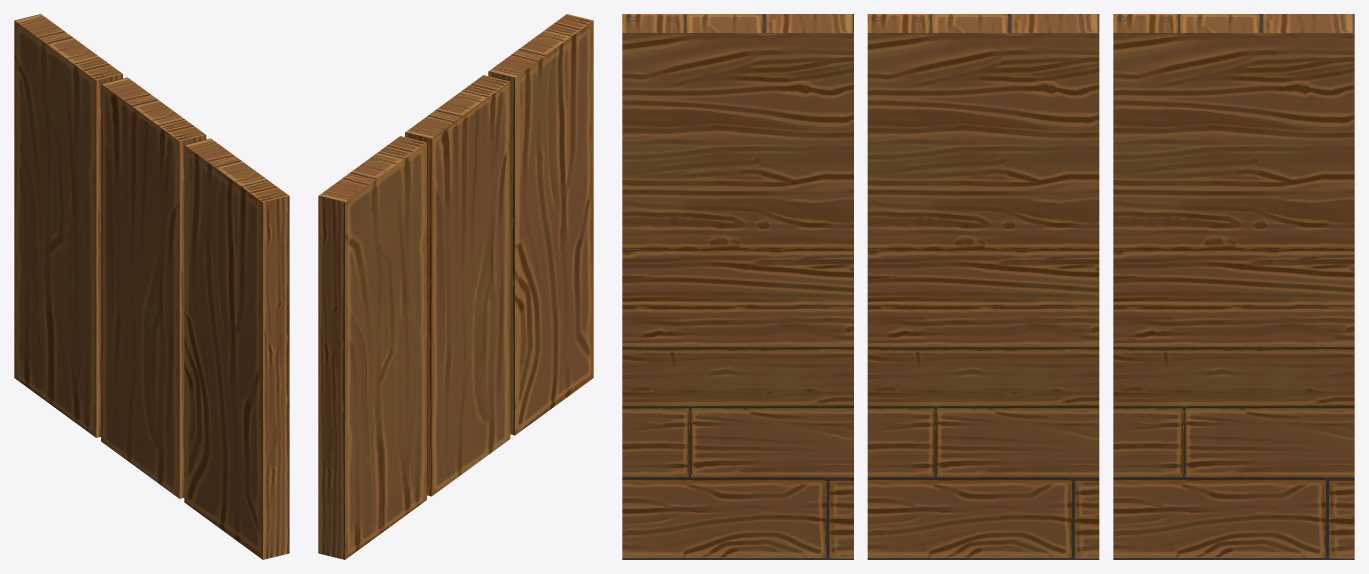
3 views of the same model, side by side, from view 1: azimuth 30°, elevation 25°; view 2: azimuth 150°, elevation 25°; view 3: azimuth 270°, elevation 25° (orthographic). The views are drawn at different scales.
Parts seen in each view (by area): view 1: Cube.559; view 2: Cube.559; view 3: Cube.559.
Part boxes in pixels (bbox=[...]): Cube.559: bbox=[14, 14, 289, 559]; Cube.559: bbox=[318, 14, 593, 559]; Cube.559: bbox=[622, 14, 1354, 559].
Bounding box in the file's own units: 11 × 141 × 178.
1 material, 1 textured.
